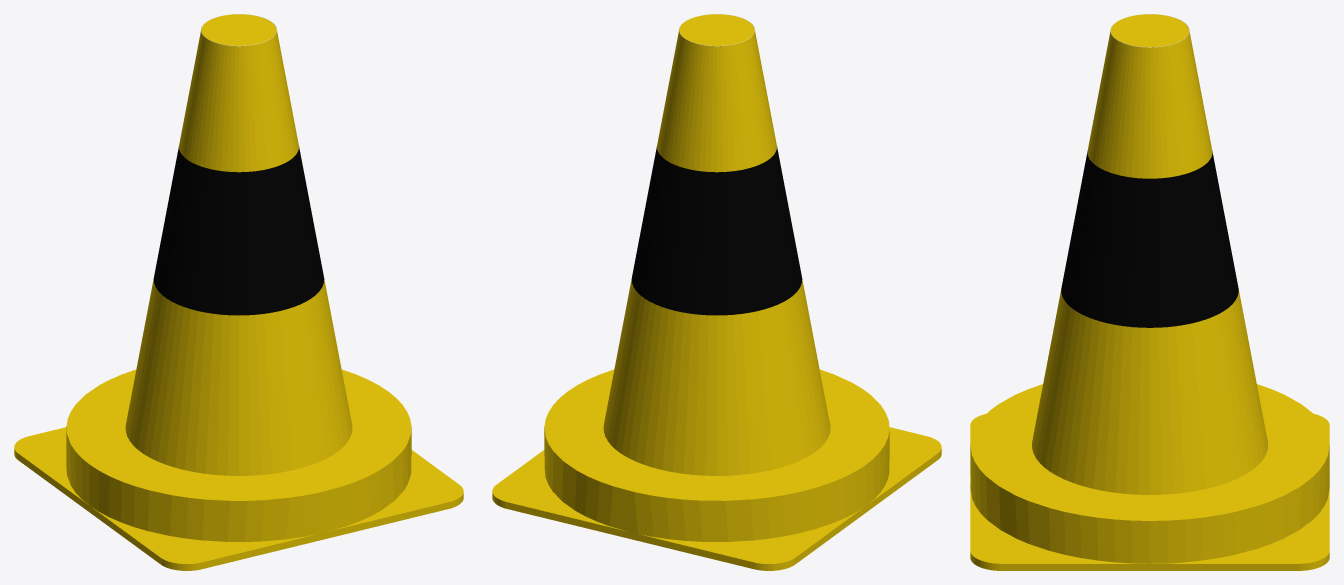
3 renders of one model, left to right at view 1: azimuth 30°, elevation 25°; view 2: azimuth 150°, elevation 25°; view 3: azimuth 270°, elevation 25°, orthographic. The views are drawn at different scales.
Visible parts, largest first — view 1: YellowCone; view 2: YellowCone; view 3: YellowCone.
Part boxes in pixels (x1,y1,x2,y2): YellowCone: [14, 14, 463, 570]; YellowCone: [492, 14, 941, 570]; YellowCone: [970, 14, 1329, 570].
Size of the model in its own units: 0.228 by 0.3251 by 0.228.
Materials: 3 (3 with a texture image).
